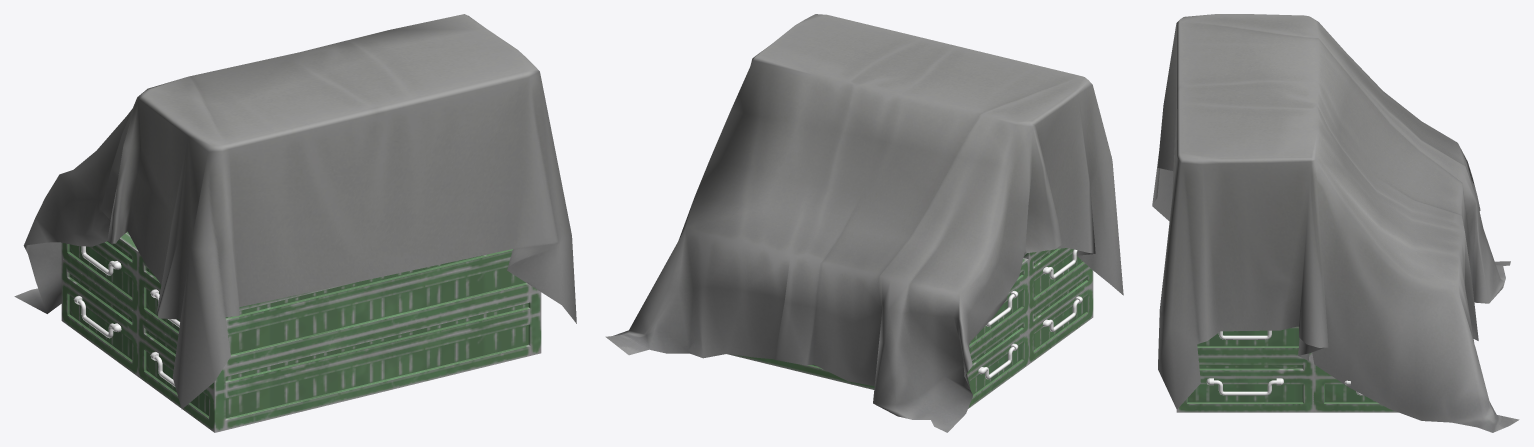
The model's file is Pfb_Box_GRP__10.fbx.
The picture shows the model from 3 angles, left to right: view 1: azimuth 30°, elevation 25°; view 2: azimuth 150°, elevation 25°; view 3: azimuth 270°, elevation 25°; orthographic projection. The views are drawn at different scales.
Parts seen in each view (by area): view 1: MAT_Canvas_02, Mat_Lootbox_01; view 2: MAT_Canvas_02, Mat_Lootbox_01; view 3: MAT_Canvas_02, Mat_Lootbox_01.
Boxes of the visible parts, <box> form: MAT_Canvas_02: <box>14,14,576,409</box>; Mat_Lootbox_01: <box>61,231,541,432</box>; MAT_Canvas_02: <box>605,14,1123,432</box>; Mat_Lootbox_01: <box>727,248,1093,408</box>; MAT_Canvas_02: <box>1152,14,1519,432</box>; Mat_Lootbox_01: <box>1176,326,1398,412</box>.
Bounding box in the file's own units: 2.39 × 1.52 × 1.98.
2 materials, 2 textured.
